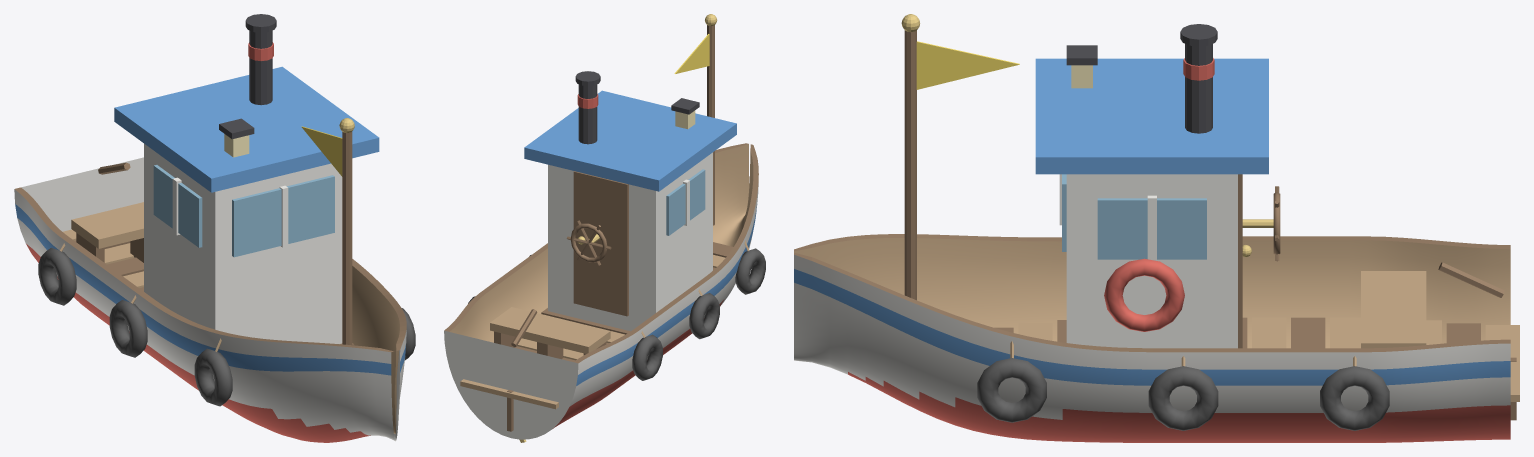
Rendered from Boat.fbx.
3 views of the same model, side by side, from view 1: azimuth 30°, elevation 25°; view 2: azimuth 150°, elevation 25°; view 3: azimuth 270°, elevation 25° (orthographic). The views are drawn at different scales.
Visible parts, largest first — view 1: Boat_Cabin, Boat_Hull, Boat_Fenders, Boat_Seat, Boat_Mast, Boat_Chimney, Boat_Deck, Boat_Lamp, Boat_Flag; view 2: Boat_Cabin, Boat_Hull, Boat_Seat, Boat_Fenders, Boat_Deck, Boat_Chimney, Boat_Mast, Boat_Lamp, Boat_Flag; view 3: Boat_Hull, Boat_Cabin, Boat_Fenders, Boat_Deck, Boat_Seat, Boat_Mast, Boat_Chimney, Boat_Flag, Boat_Lamp.
Part boxes in pixels (left/top/right/bottom): Boat_Cabin: left=114, top=66, right=379, bottom=343; Boat_Hull: left=14, top=157, right=406, bottom=442; Boat_Fenders: left=38, top=243, right=415, bottom=406; Boat_Seat: left=71, top=162, right=143, bottom=262; Boat_Mast: left=339, top=118, right=354, bottom=345; Boat_Chimney: left=245, top=14, right=276, bottom=105; Boat_Deck: left=62, top=229, right=354, bottom=345; Boat_Lamp: left=219, top=118, right=254, bottom=157; Boat_Flag: left=301, top=126, right=342, bottom=176; Boat_Cabin: left=524, top=90, right=736, bottom=331; Boat_Hull: left=444, top=143, right=758, bottom=439; Boat_Seat: left=490, top=307, right=610, bottom=359; Boat_Fenders: left=468, top=240, right=765, bottom=380; Boat_Deck: left=460, top=242, right=733, bottom=409; Boat_Chimney: left=575, top=71, right=600, bottom=144; Boat_Mast: left=705, top=14, right=717, bottom=225; Boat_Lamp: left=671, top=98, right=699, bottom=129; Boat_Flag: left=674, top=34, right=709, bottom=73; Boat_Hull: left=794, top=234, right=1510, bottom=442; Boat_Cabin: left=1035, top=58, right=1280, bottom=348; Boat_Fenders: left=977, top=341, right=1389, bottom=430; Boat_Deck: left=994, top=317, right=1519, bottom=401; Boat_Seat: left=1361, top=262, right=1504, bottom=348; Boat_Mast: left=901, top=14, right=920, bottom=300; Boat_Chimney: left=1180, top=24, right=1217, bottom=133; Boat_Flag: left=916, top=41, right=1019, bottom=89; Boat_Lamp: left=1066, top=45, right=1097, bottom=88.
Size of the model in its own units: 2 by 3.03 by 4.66.
